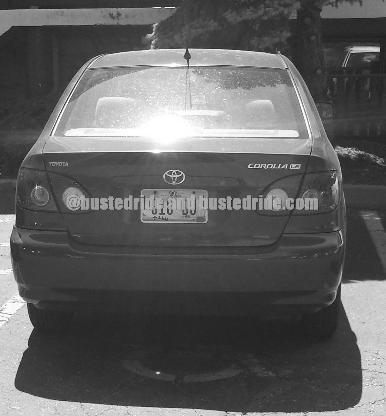license plate: (133, 183, 215, 231)
